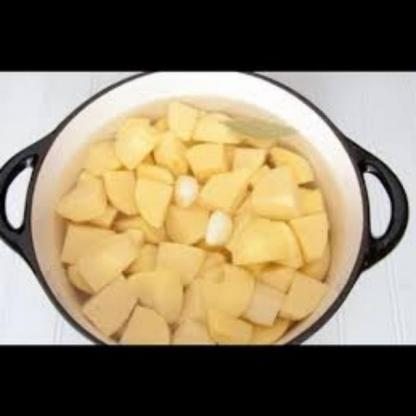potato: (54, 93, 332, 344)
